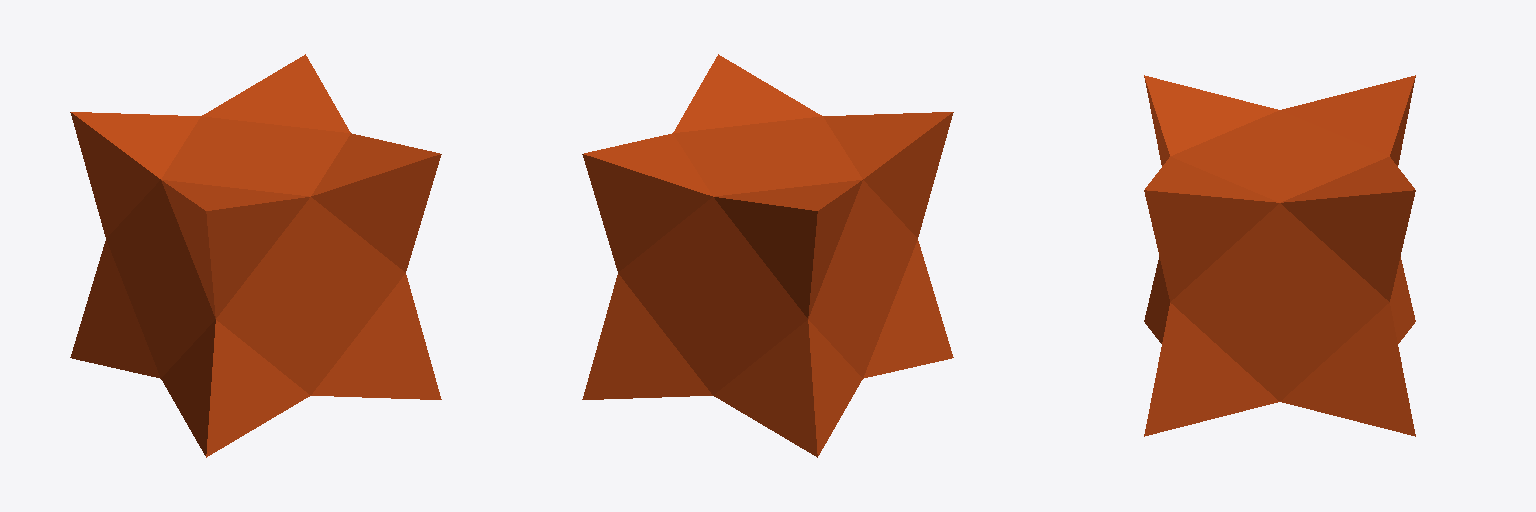
The model's file is seed1.obj.
3 renders of one model, left to right at view 1: azimuth 30°, elevation 25°; view 2: azimuth 150°, elevation 25°; view 3: azimuth 270°, elevation 25°, orthographic.
Visible parts, largest first — view 1: Cube_Cube.001; view 2: Cube_Cube.001; view 3: Cube_Cube.001.
Part boxes in pixels (left/top/right/bottom): Cube_Cube.001: left=70, top=54, right=441, bottom=457; Cube_Cube.001: left=582, top=54, right=953, bottom=457; Cube_Cube.001: left=1144, top=75, right=1415, bottom=436.
Size of the model in its own units: 2 by 2 by 2.